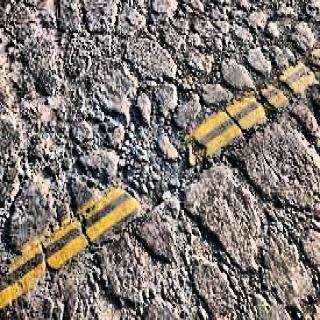alligator-crack: (175, 162, 320, 320), (128, 0, 320, 117), (0, 107, 122, 236), (36, 238, 175, 320)
pothole: (120, 116, 208, 209)
